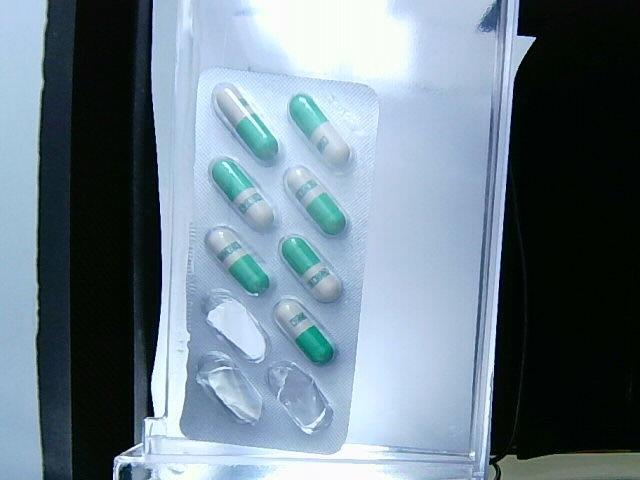Light Front: (179, 69, 380, 456)
No Pill Front: (196, 353, 262, 424), (204, 291, 267, 363), (268, 364, 331, 434)
Pill Front: (213, 83, 284, 166), (209, 159, 275, 231), (284, 165, 347, 236), (289, 95, 350, 165), (205, 229, 268, 294), (279, 236, 341, 301), (274, 299, 334, 364)
